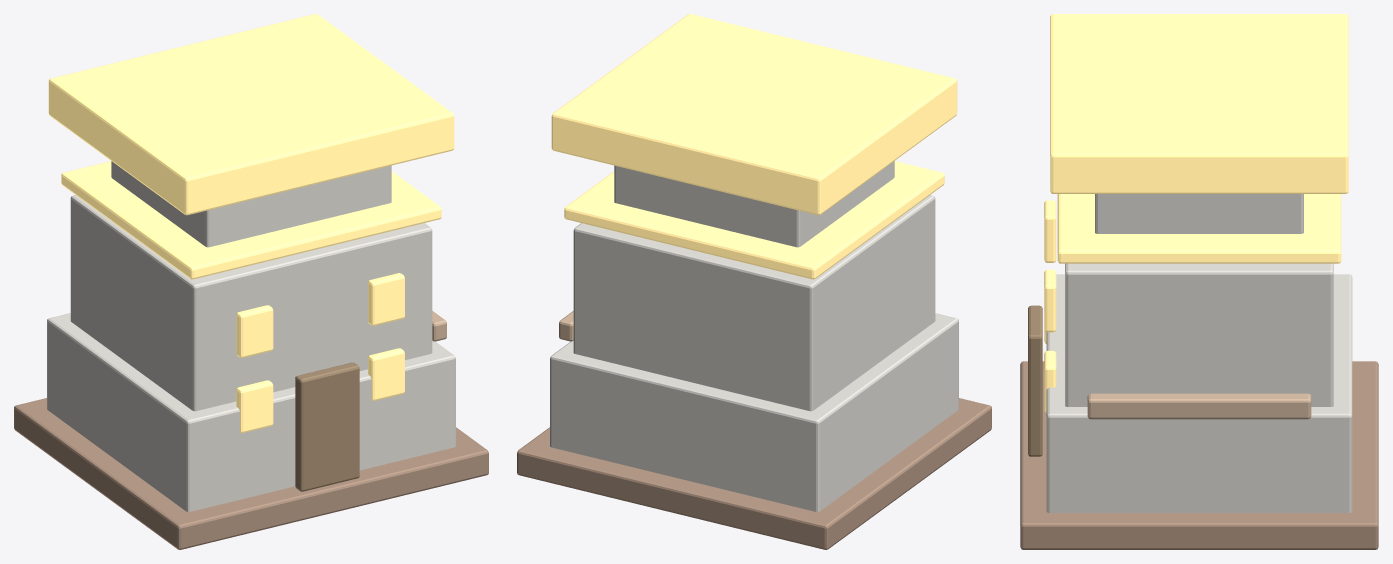
File: great_house.glb
The picture shows the model from 3 angles, left to right: view 1: azimuth 30°, elevation 25°; view 2: azimuth 150°, elevation 25°; view 3: azimuth 270°, elevation 25°; orthographic projection. The views are drawn at different scales.
Parts seen in each view (by area): view 1: gh_roof, gh_mid, gh_base, gh_plinth, gh_cornice, gh_top, gh_door, gh_win_-0.55_1.5, gh_win_0.55_1.5, gh_win_-0.55_0.9, gh_win_0.55_0.9; view 2: gh_roof, gh_mid, gh_base, gh_plinth, gh_cornice, gh_top; view 3: gh_roof, gh_mid, gh_base, gh_plinth, gh_cornice, gh_top, gh_course_0, gh_course_1, gh_door, gh_win_0.55_1.5, gh_win_-0.55_1.5, gh_win_0.55_0.9.
Boxes of the visible parts, <box> form: gh_roof: <box>48,14,454,215</box>; gh_mid: <box>70,195,432,411</box>; gh_base: <box>47,313,455,511</box>; gh_plinth: <box>14,398,488,549</box>; gh_cornice: <box>61,161,441,279</box>; gh_top: <box>111,161,391,247</box>; gh_door: <box>295,362,359,491</box>; gh_win_-0.55_1.5: <box>236,305,273,357</box>; gh_win_0.55_1.5: <box>368,273,404,325</box>; gh_win_-0.55_0.9: <box>236,380,273,433</box>; gh_win_0.55_0.9: <box>368,348,404,400</box>; gh_roof: <box>551,14,957,215</box>; gh_mid: <box>573,195,935,411</box>; gh_base: <box>550,313,958,511</box>; gh_plinth: <box>517,398,991,549</box>; gh_cornice: <box>564,161,944,279</box>; gh_top: <box>614,161,894,247</box>; gh_roof: <box>1050,14,1348,193</box>; gh_mid: <box>1065,263,1333,406</box>; gh_base: <box>1046,274,1352,512</box>; gh_plinth: <box>1020,361,1378,549</box>; gh_cornice: <box>1057,194,1341,263</box>; gh_top: <box>1095,194,1303,233</box>; gh_course_0: <box>1087,393,1218,419</box>; gh_course_1: <box>1180,393,1311,419</box>; gh_door: <box>1028,305,1042,456</box>; gh_win_0.55_1.5: <box>1044,269,1056,332</box>; gh_win_-0.55_1.5: <box>1044,200,1056,262</box>; gh_win_0.55_0.9: <box>1044,350,1056,412</box>.
Bounding box in the file's own units: 2.6 × 2.85 × 2.4.
